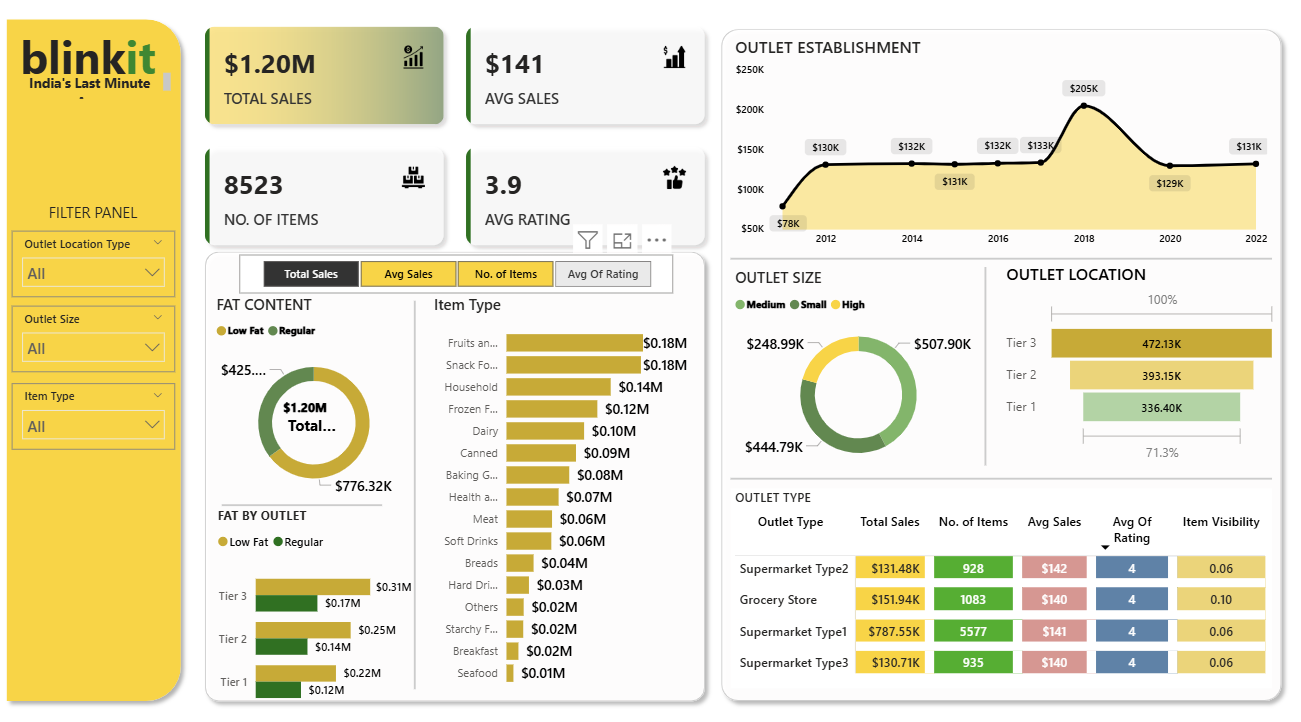

The page's visual inventory and layout, read from the dashboard file:
{"tool":"powerbi","page":{"name":"Page 1","canvas":[1400,800],"ordinal":0},"visuals":[{"type":"shape","box":[0,25.5,205.1,749.3],"z":0},{"type":"textbox","box":[18.8,36.2,167.6,79.1],"z":1000},{"type":"textbox","box":[14.7,87.1,175.6,37.5],"z":2000},{"type":"cardVisual","fields":{"Data":["BlinkIT Grocery Data.Total Sales","BlinkIT Grocery Data.Avg Sales","BlinkIT Grocery Data.No. of Items","BlinkIT Grocery Data.Avg Of Rating"]},"box":[205.1,25.2,571.2,269.8],"z":3000},{"type":"shape","box":[213,274.6,553.9,500.2],"z":4000},{"type":"donutChart","title":"FAT CONTENT","fields":{"Y":["BlinkIT Grocery Data.Total Sales"],"Category":["BlinkIT Grocery Data.Item Fat Content"]},"box":[228.8,328.2,219.3,228.8],"z":5000},{"type":"slicer","fields":{"Values":[" Metrics. Metrics"]},"box":[258.8,287.2,465.5,41],"z":6000},{"type":"cardVisual","fields":{"Data":["BlinkIT Grocery Data.Total Sales"]},"box":[274.8,412.9,109.9,95.2],"z":7000},{"type":"clusteredBarChart","title":"FAT BY OUTLET","fields":{"Y":["BlinkIT Grocery Data.Total Sales"],"Category":["BlinkIT Grocery Data.Outlet Location Type"],"Series":["BlinkIT Grocery Data.Item Fat Content"]},"box":[230.6,557.6,218.5,230.6],"z":8000},{"type":"shape","box":[239.9,538.1,172,36.3],"z":9000},{"type":"shape","box":[421.3,336.1,52.1,416.6],"z":10000},{"type":"barChart","title":"Item Type","fields":{"Y":["BlinkIT Grocery Data.Total Sales"],"Category":["BlinkIT Grocery Data.Item Type"]},"box":[462.5,328.4,281.5,431.6],"z":11000},{"type":"shape","box":[766.9,36.3,618.6,738.5],"z":12000},{"type":"lineChart","title":"OUTLET ESTABLISHMENT","fields":{"Y":["BlinkIT Grocery Data.Total Sales"],"Category":["BlinkIT Grocery Data.Outlet Establishment Year"]},"box":[785.9,52.1,580.7,235.1],"z":13000},{"type":"shape","box":[785.9,274.6,580.7,33.1],"z":14000},{"type":"donutChart","title":"OUTLET SIZE","fields":{"Y":["BlinkIT Grocery Data.Total Sales"],"Category":["BlinkIT Grocery Data.Outlet Size"]},"box":[785.9,299.8,275,225],"z":15000},{"type":"shape","box":[1041.5,299.8,34.7,213],"z":16000},{"type":"funnel","title":"OUTLET LOCATION","fields":{"Y":["Sum(BlinkIT Grocery Data.Sales)"],"Category":["BlinkIT Grocery Data.Outlet Location Type"]},"box":[1076.2,296.7,299.8,217.8],"z":17000},{"type":"shape","box":[785.9,511.3,580.7,33.1],"z":18000},{"type":"pivotTable","title":"OUTLET TYPE","fields":{"Rows":["BlinkIT Grocery Data.Outlet Type"],"Values":["BlinkIT Grocery Data.Total Sales","BlinkIT Grocery Data.No. of Items","BlinkIT Grocery Data.Avg Sales","BlinkIT Grocery Data.Avg Of Rating","Avg(BlinkIT Grocery Data.Item Visibility)"]},"box":[785.9,538.1,580.7,214.6],"z":19000},{"type":"slicer","fields":{"Values":["BlinkIT Grocery Data.Outlet Location Type"]},"box":[14.2,262,175.2,71],"z":20000},{"type":"slicer","fields":{"Values":["BlinkIT Grocery Data.Outlet Size"]},"box":[14.2,342.4,175.2,71],"z":21000},{"type":"slicer","fields":{"Values":["BlinkIT Grocery Data.Item Type"]},"box":[14.2,424.5,175.2,71],"z":22000},{"type":"textbox","box":[37.5,225.2,128.7,36.2],"z":23000}]}

Visuals, with their boxes in screenshot pixels (x1, y1, x2, y2), scaled from the page's 1400x800 canvas onto the 1301x722 screenshot:
shape: [0,23,191,699]
textbox: [17,33,173,104]
textbox: [14,79,177,112]
cardVisual - BlinkIT Grocery Data.Total Sales x BlinkIT Grocery Data.Avg Sales: [191,23,721,266]
shape: [198,248,713,699]
"FAT CONTENT" donutChart: [213,296,416,503]
slicer -  Metrics. Metrics: [240,259,673,296]
cardVisual - BlinkIT Grocery Data.Total Sales: [255,373,357,459]
"FAT BY OUTLET" clusteredBarChart: [214,503,417,711]
shape: [223,486,383,518]
shape: [392,303,440,679]
"Item Type" barChart: [430,296,691,686]
shape: [713,33,1288,699]
"OUTLET ESTABLISHMENT" lineChart: [730,47,1270,259]
shape: [730,248,1270,278]
"OUTLET SIZE" donutChart: [730,271,986,474]
shape: [968,271,1000,463]
"OUTLET LOCATION" funnel: [1000,268,1279,464]
shape: [730,461,1270,491]
"OUTLET TYPE" pivotTable: [730,486,1270,679]
slicer - BlinkIT Grocery Data.Outlet Location Type: [13,236,176,301]
slicer - BlinkIT Grocery Data.Outlet Size: [13,309,176,373]
slicer - BlinkIT Grocery Data.Item Type: [13,383,176,447]
textbox: [35,203,154,236]
